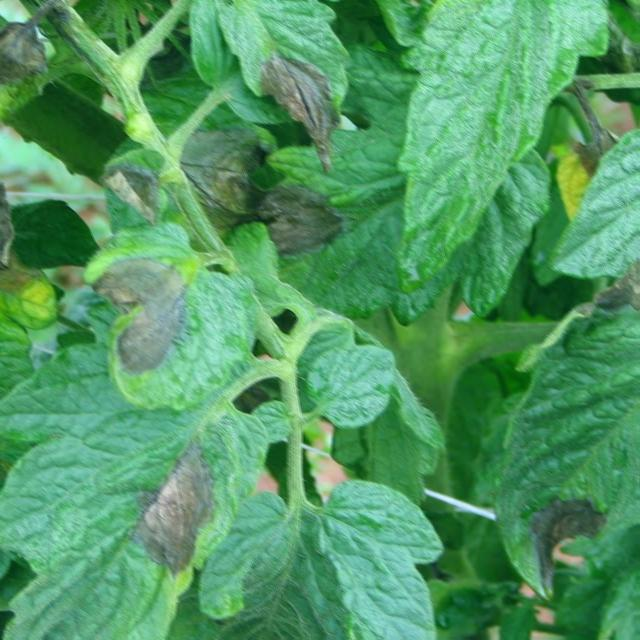Tomato leaf late blight: (0, 339, 275, 640), (85, 238, 262, 411), (223, 0, 343, 158), (0, 96, 43, 460), (0, 1, 56, 155)
